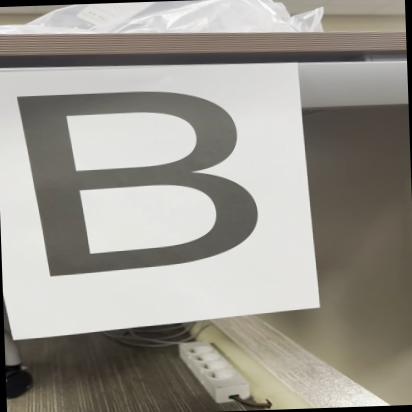seat: (0, 70, 271, 284)
